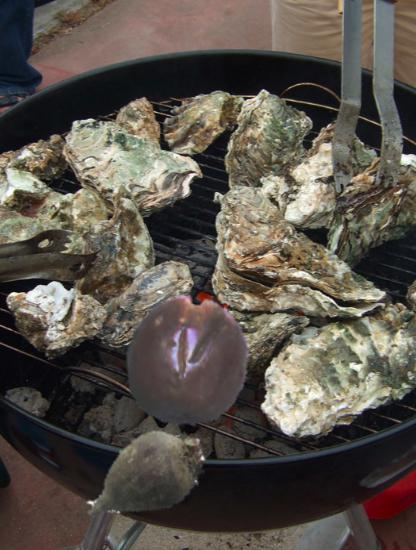Beetroot: (76, 409, 215, 548)
Passion: (121, 292, 256, 427)
